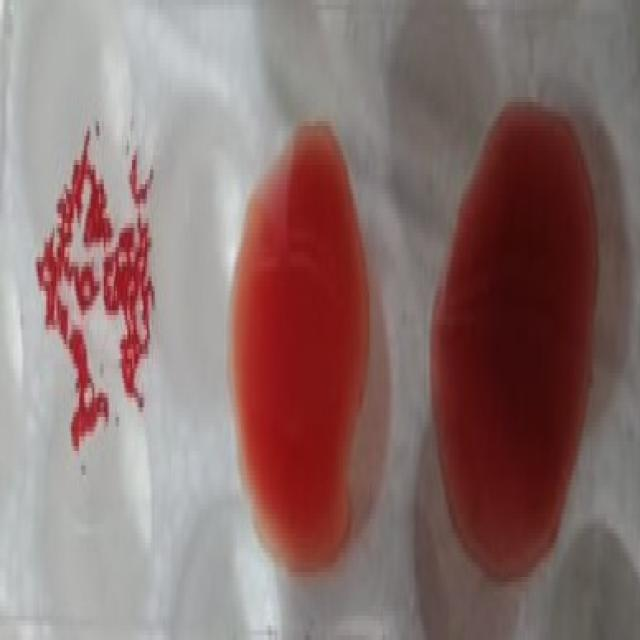D: (28, 71, 164, 502)
